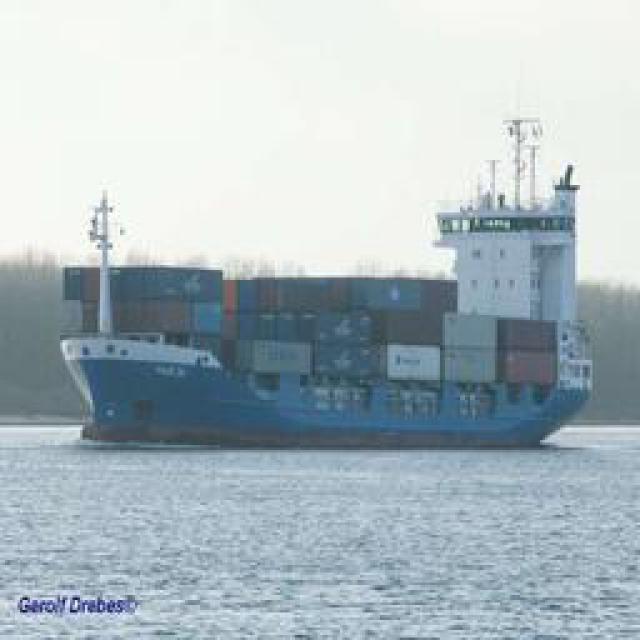Ship: (76, 285, 594, 453)
